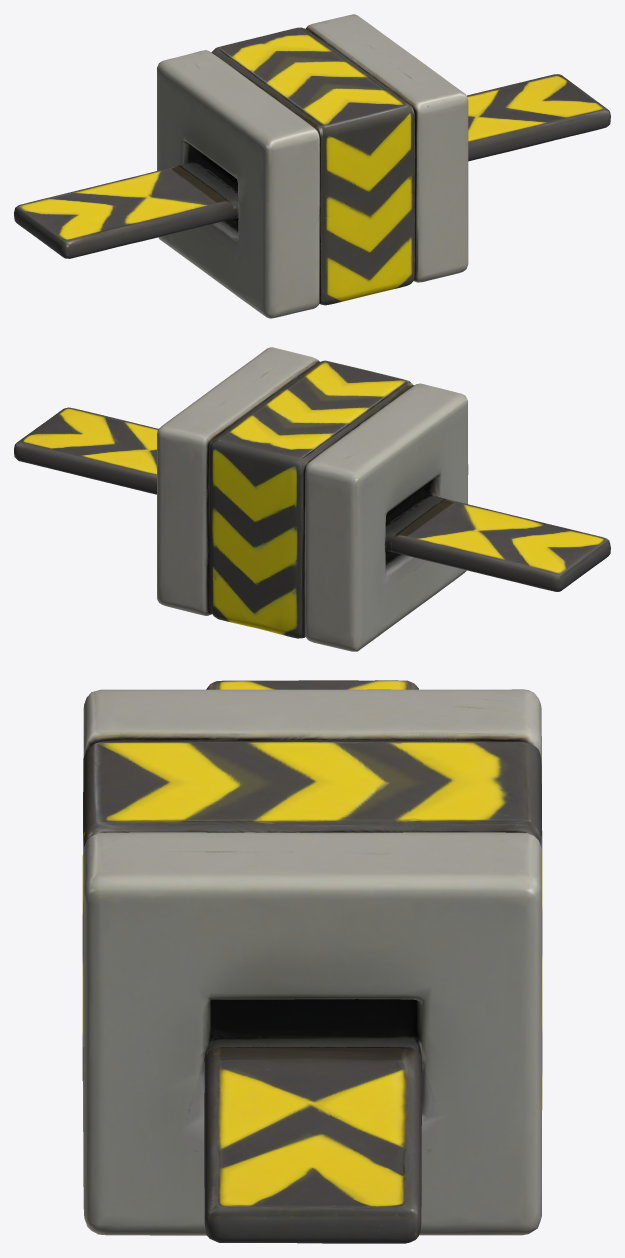
Rendered from normal_ball.glb.
3 renders of one model, top to bottom at view 1: azimuth 30°, elevation 25°; view 2: azimuth 150°, elevation 25°; view 3: azimuth 270°, elevation 25°, orthographic. The views are drawn at different scales.
Size of the model in its own units: 2 by 0.6305 by 0.7263.
Materials: 1 (1 with a texture image).
